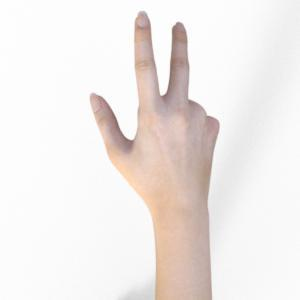Scissor: (89, 11, 220, 300)
